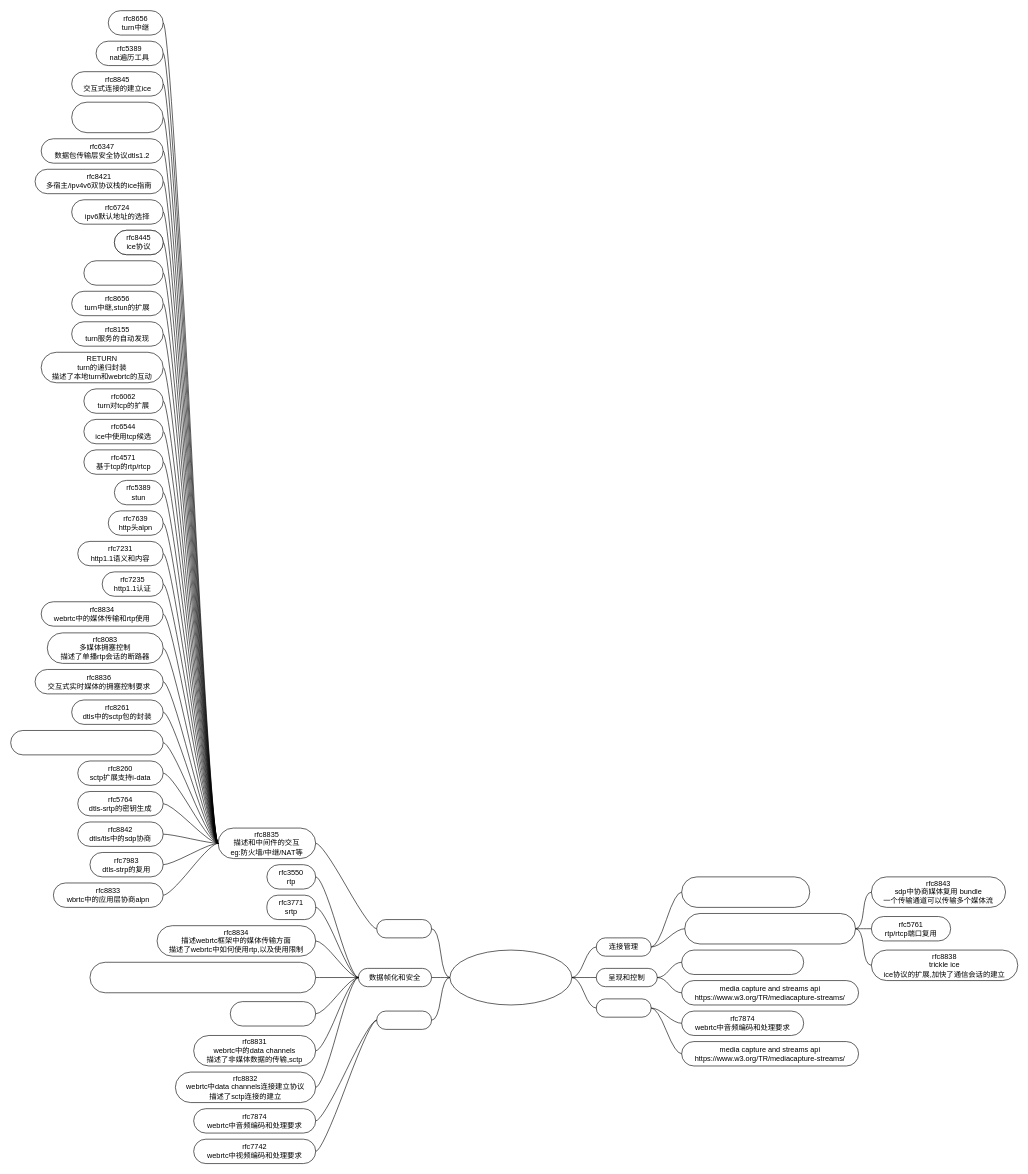
This 1028x1174 diagram has some shape labels left out. Here are the shapes that lost their labels. From the top down, the centre of each, then its label:
At [117,117]: "rfc8446 传输层安全协议tls1.3 防止窃听/篡改/伪造".
At [123,272]: "rfc5128 穿nats的p2p交流".
At [86,742]: "rfc8841 dtls中sctp流的sdp offer/answer协商过程".
At [745,891]: "rfc3264 sdp的offer/answer机制 这个机制时internet标准跟踪协议".
At [404,928]: "数据传输".
At [770,928]: "rfc8829 js会话建立协议jsep 描述了通过api指定的接口控制会话信令的机制".
At [202,977]: "rfc8826 webrtc中的安全 定义了webrtc的威胁模型,通过威胁模型分析webrtc的安全威胁".
At [510,977]: "rfc8825 webrtc概览 描述webrtc的架构和6大功能组".
At [742,961]: "webrtc api https://www.w3.org/TR/webrtc/".
At [273,1013]: "rfc8827 webrtc的安全架构".
At [404,1019]: "数据格式".
At [623,1007]: "本地功能".
